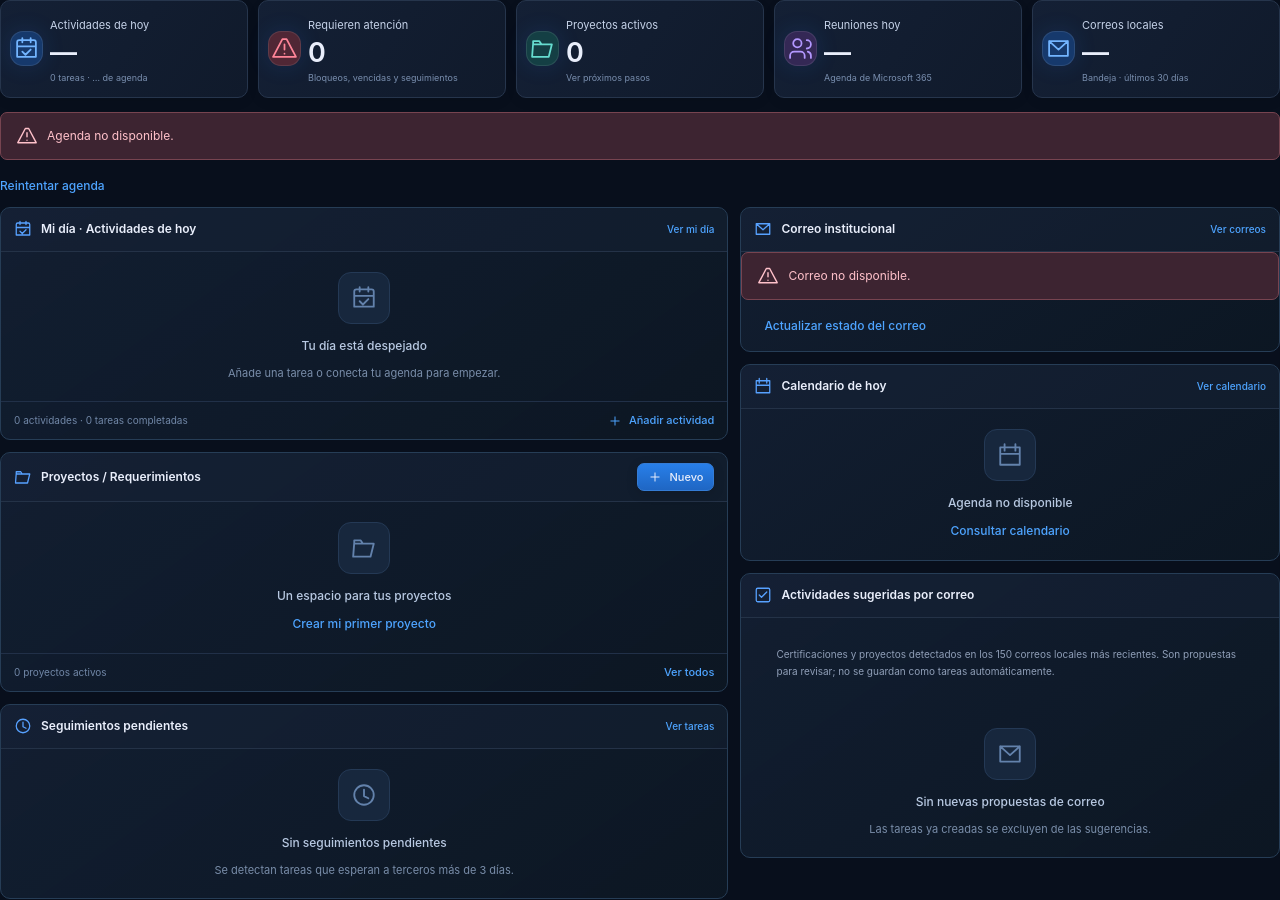
Test case: muestra fallos, conserva acciones locales y permite reintentar la agenda
Expected: the text "Agenda no disponible." is shown, [0,112,1279,160]
Expected: the text "Correo no disponible." is shown, [741,252,1279,300]
Click the button "Reintentar agenda": x=52, y=186 [0,177,105,195]
(page scrolled)
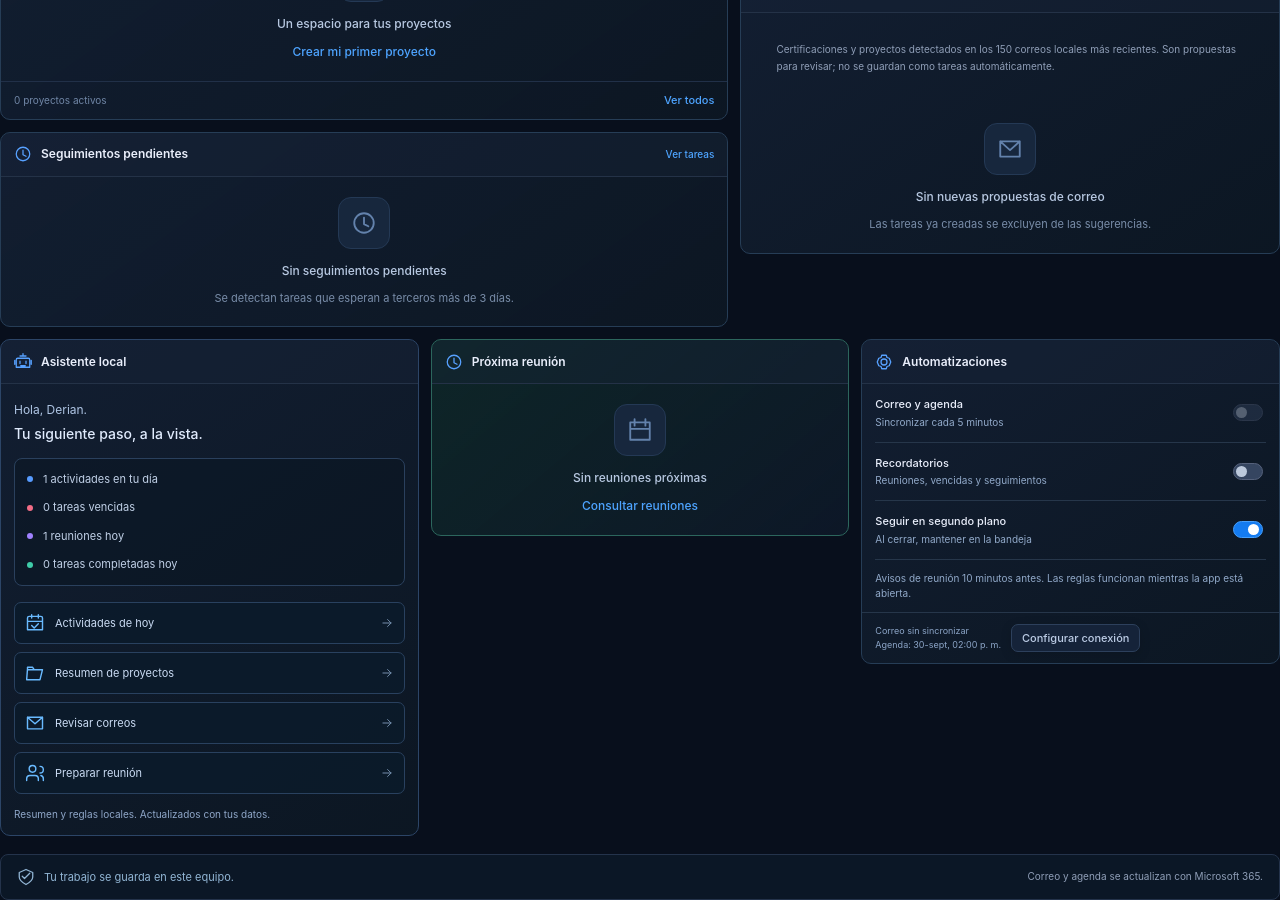
Click the checkbox named "Recordatorios automáticos": x=1248, y=471 [1233,463,1263,480]
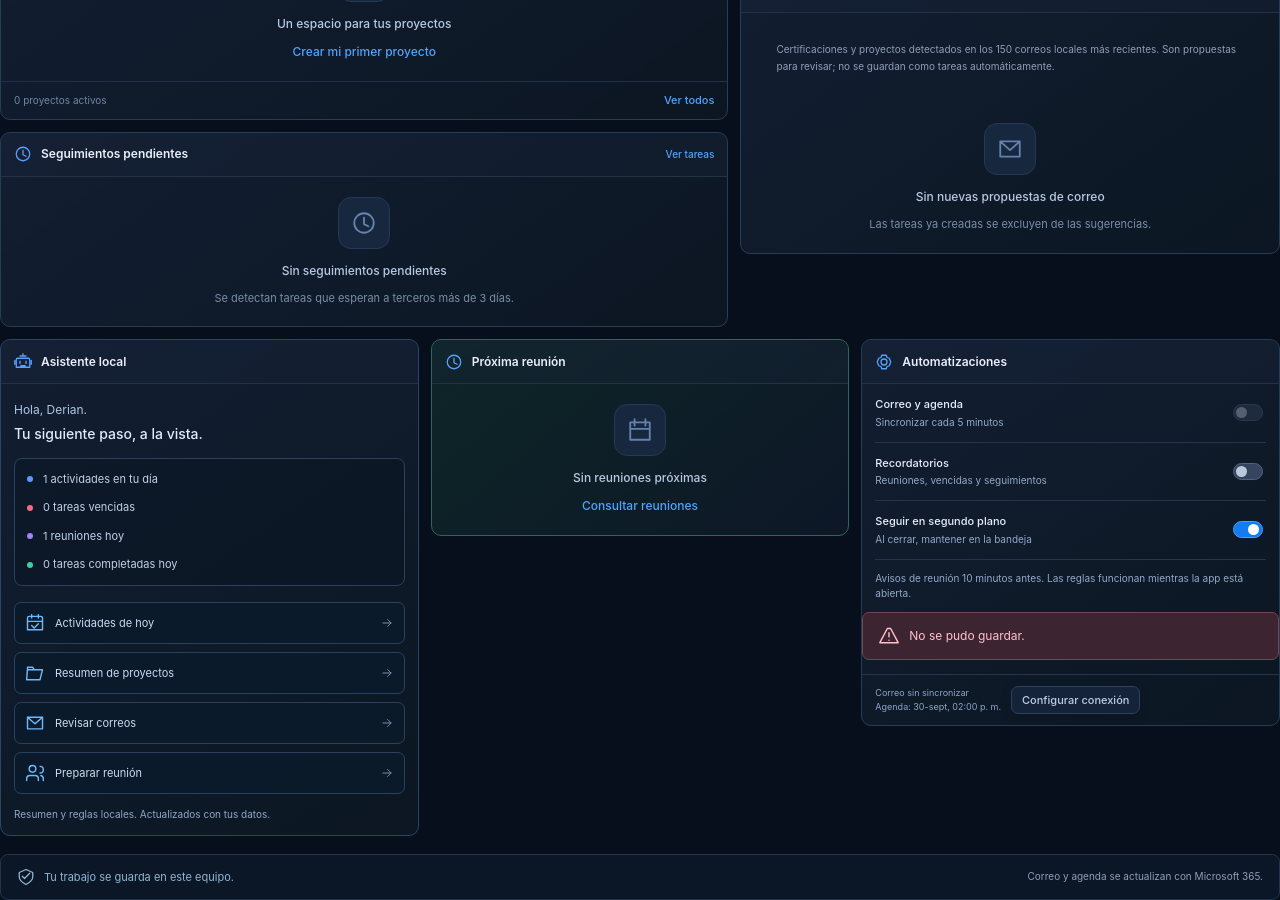
Expected: the text "No se pudo guardar." is shown, [862,612,1279,660]
